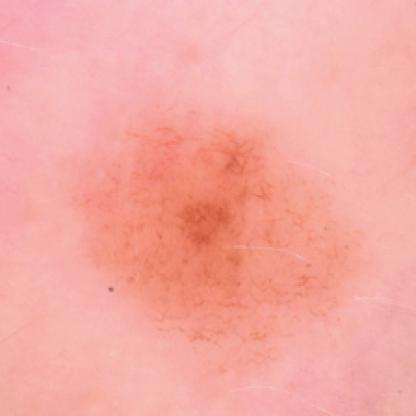benign: (117, 126, 332, 336)
